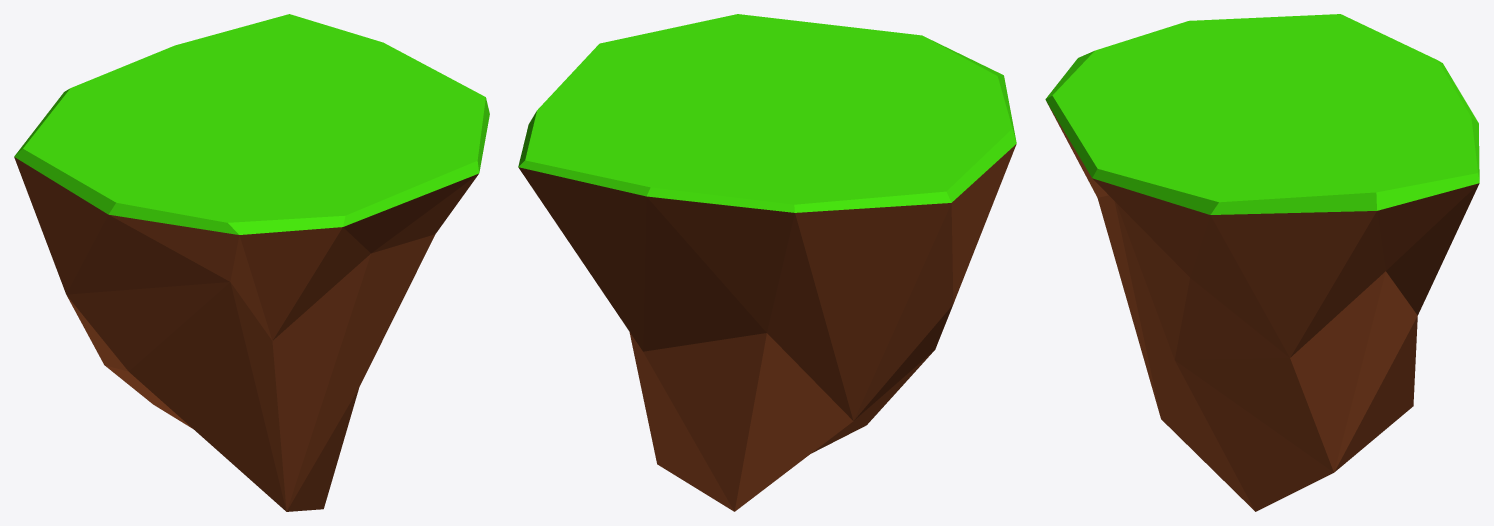
Rendered from SmallestHoverWorld2.fbx.
3 renders of one model, left to right at view 1: azimuth 30°, elevation 25°; view 2: azimuth 150°, elevation 25°; view 3: azimuth 270°, elevation 25°, orthographic. The views are drawn at different scales.
Parts seen in each view (by area): view 1: Icosphere; view 2: Icosphere; view 3: Icosphere.
Part boxes in pixels (x1,y1,x2,y2): Icosphere: [14, 14, 489, 511]; Icosphere: [518, 14, 1016, 511]; Icosphere: [1045, 14, 1479, 511].
Bounding box in the file's own units: 865 × 794 × 829.
